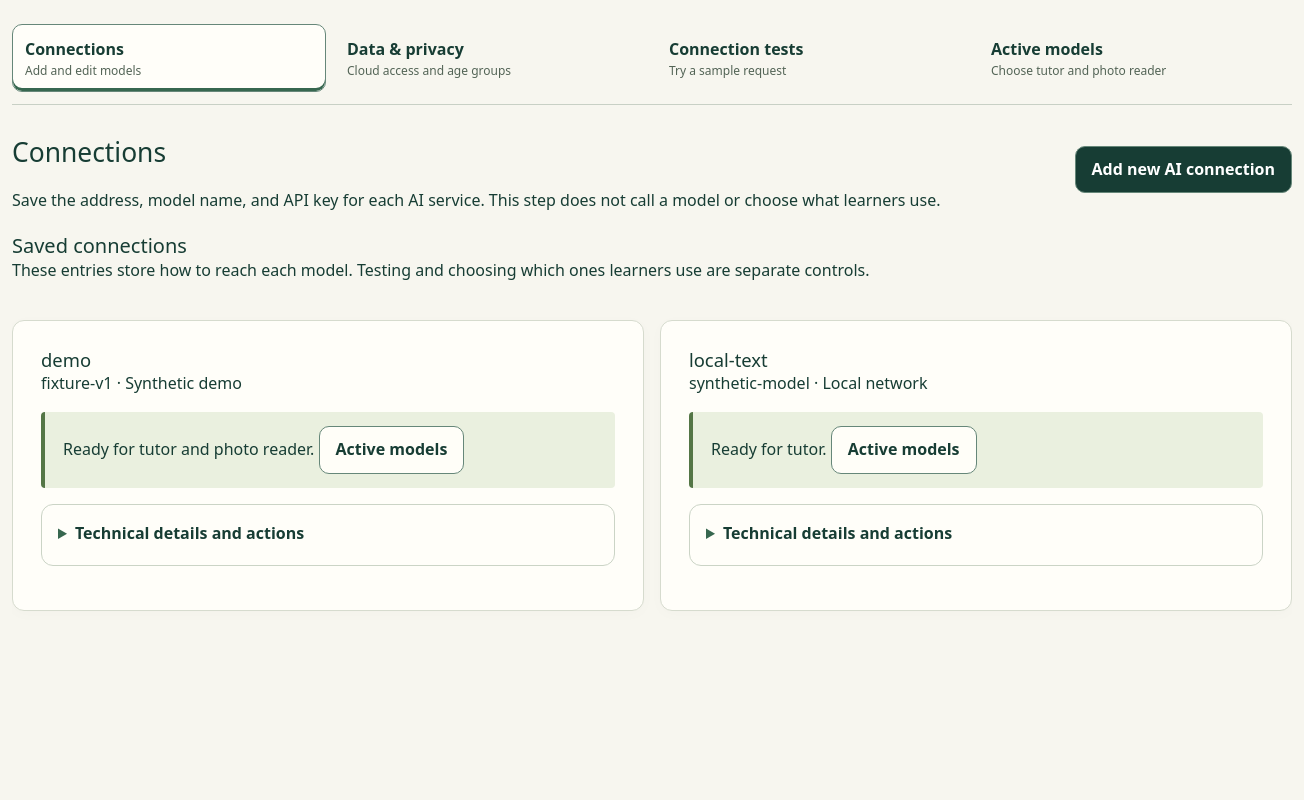
Test case: AI settings page › loads on Settings only, filters photo capability, and requires fresh consent after a selection change
The width and height of the screenshot is (1304, 800).
Click the tab "Active models Choose tutor and photo reader": (1047, 49) left=978, top=24, right=1292, bottom=92
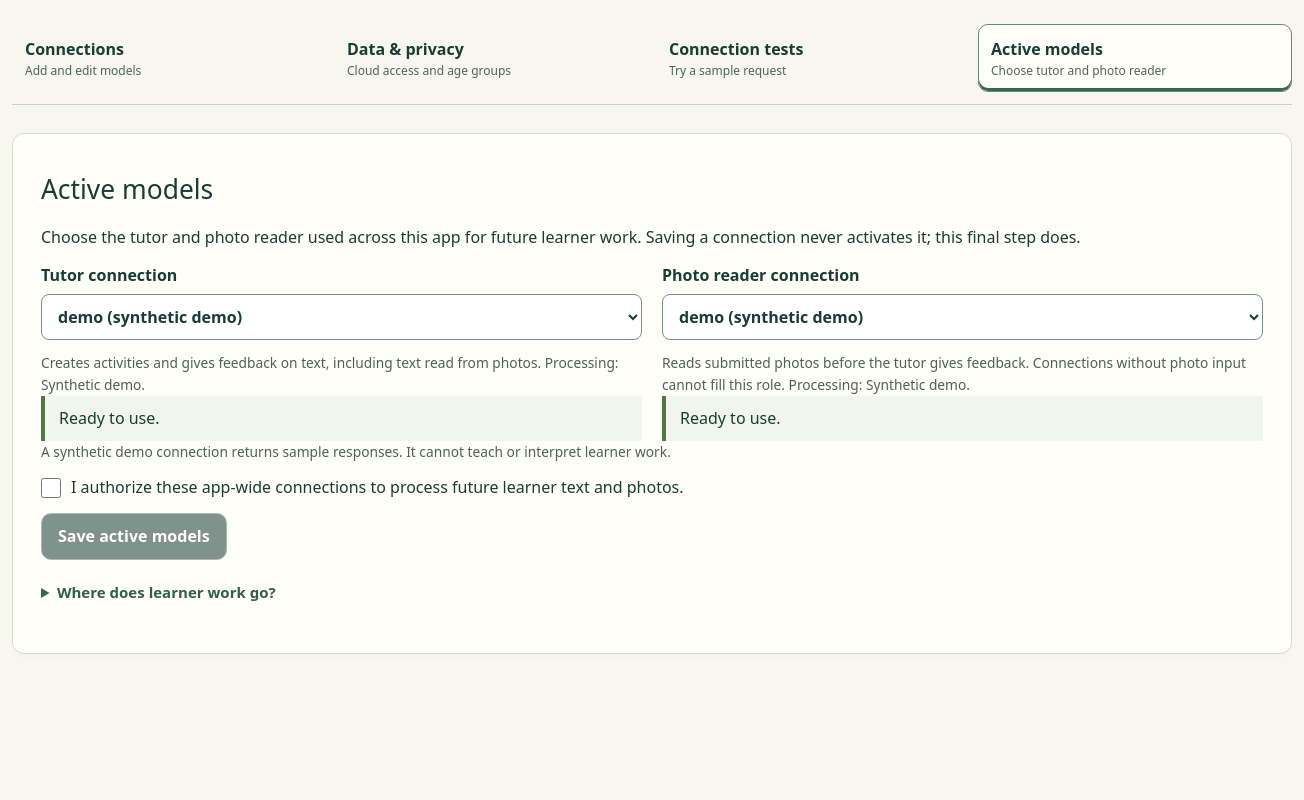
Check: the button "Save active models" is disabled, box left=41, top=513, right=227, bottom=560
Click the checkbox named "I authorize these app-wide connections to process future learner text and photos.": (51, 488) left=41, top=478, right=61, bottom=498
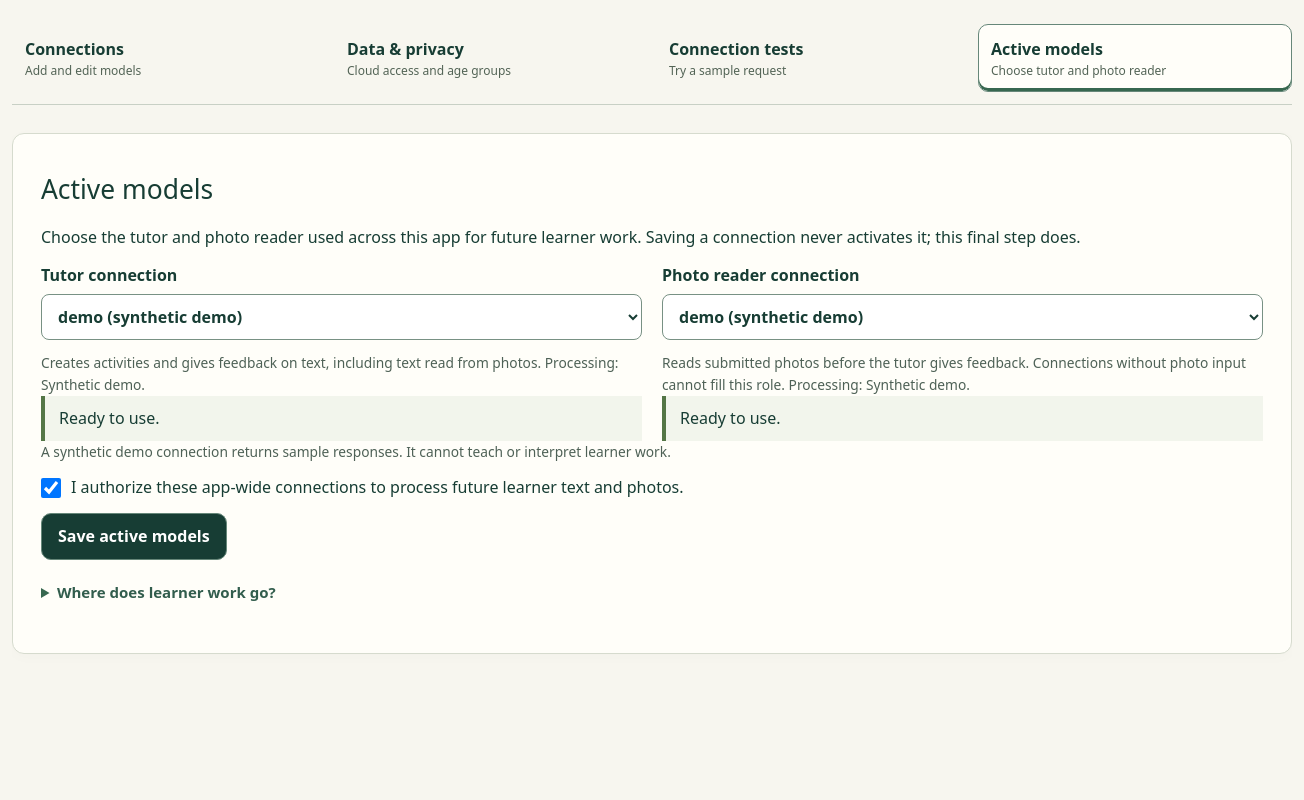
Check: the button "Save active models" is enabled, box left=41, top=513, right=227, bottom=560
Select "local-text (ready)" in the dropdown labelled "Tutor connection": (342, 317) left=41, top=294, right=642, bottom=340
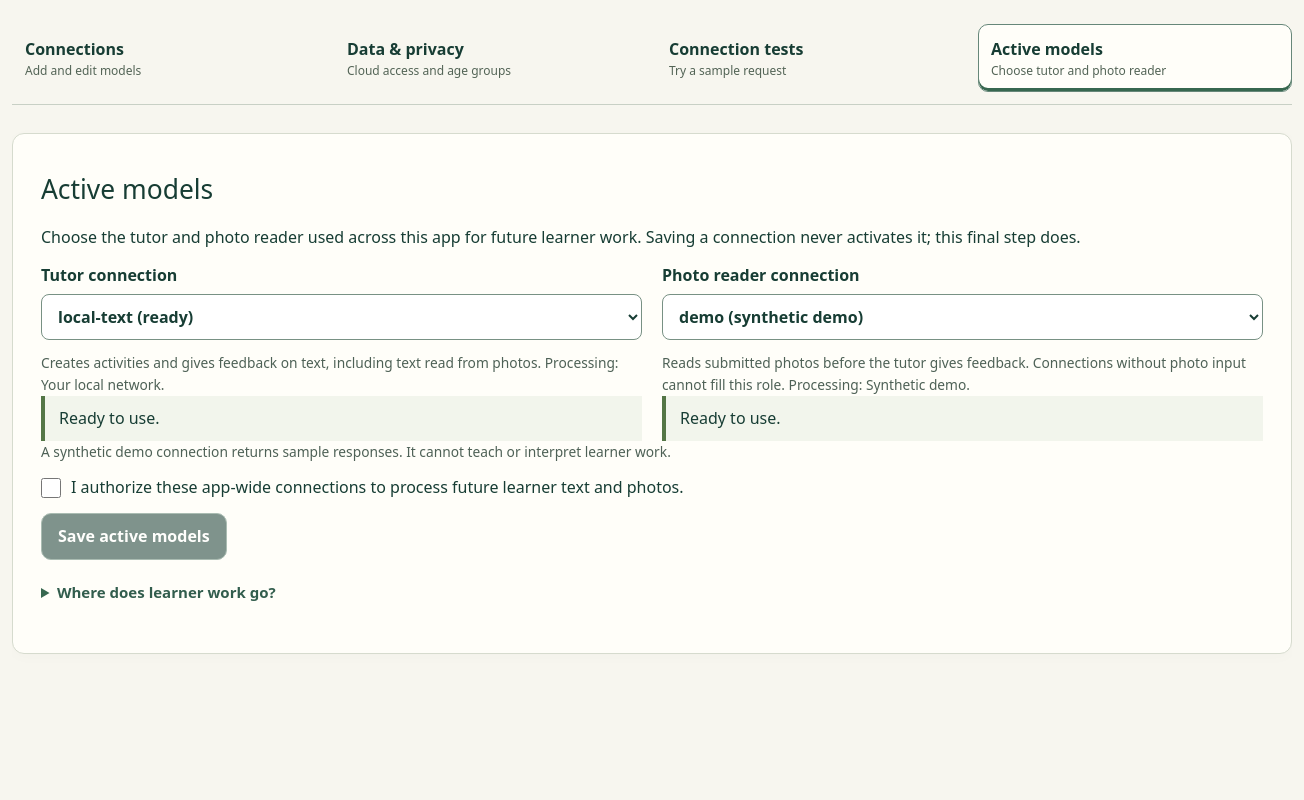
Check: the checkbox named "I authorize these app-wide connections to process future learner text and photos." is not checked
Check: the button "Save active models" is disabled, box left=41, top=513, right=227, bottom=560
Click the checkbox named "I authorize these app-wide connections to process future learner text and photos.": (51, 488) left=41, top=478, right=61, bottom=498
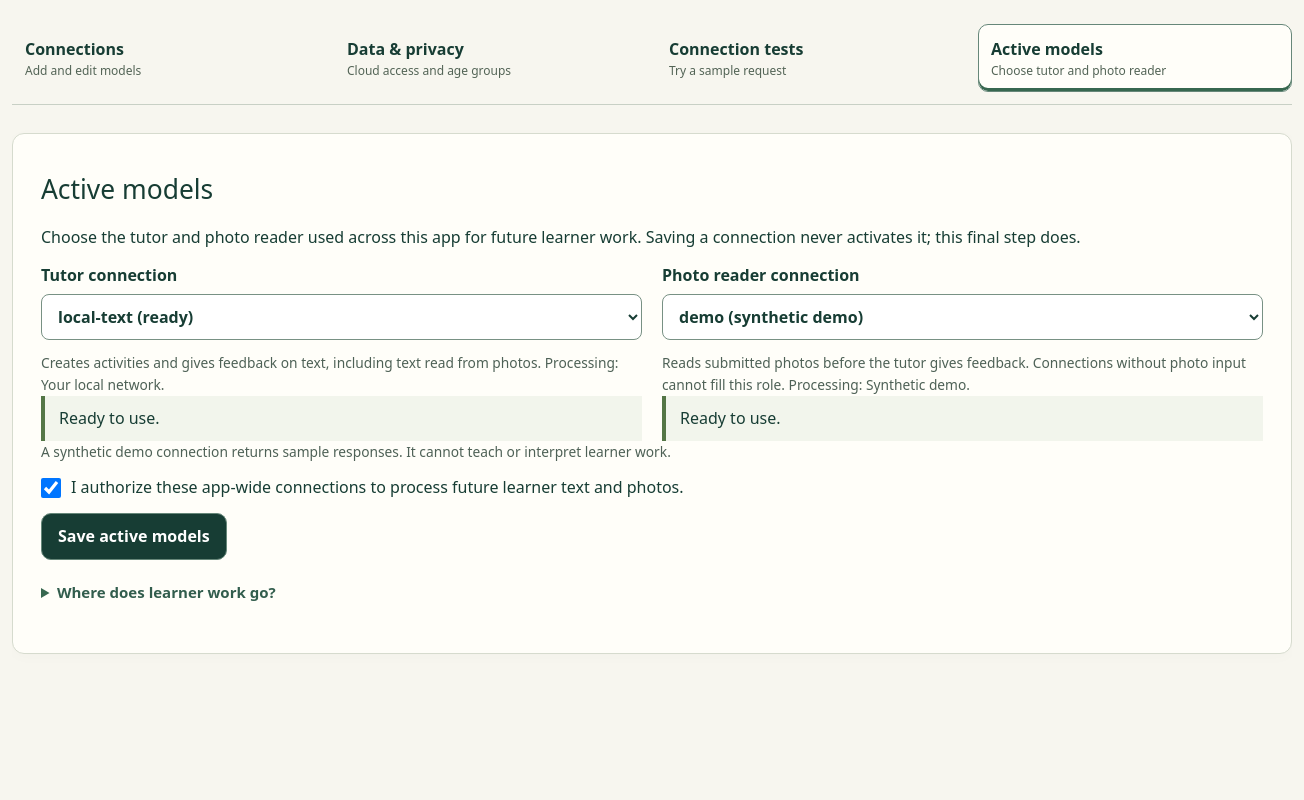
Click the button "Save active models": (134, 537) left=41, top=513, right=227, bottom=560
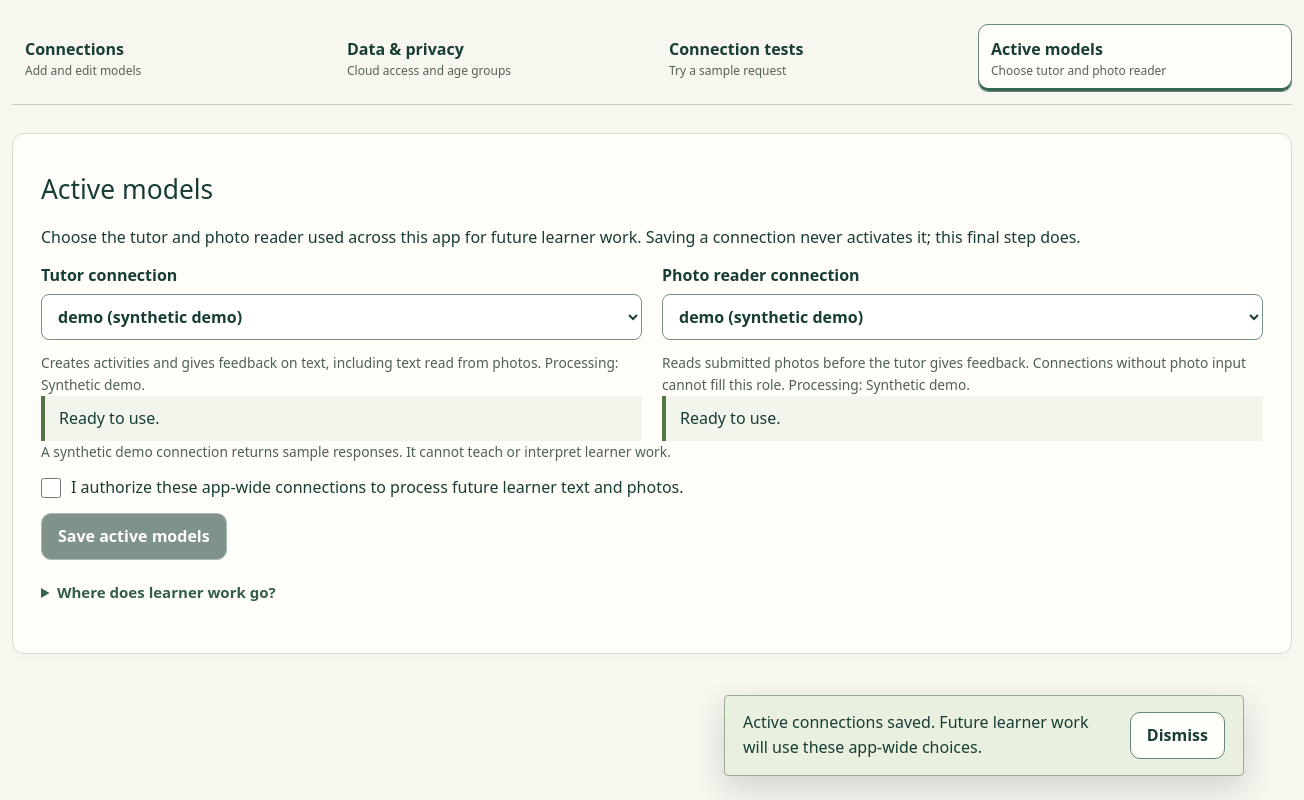
Check: the text "Active connections saved. Future learner work will use these app-wide choices." is shown, box left=743, top=710, right=1114, bottom=761
